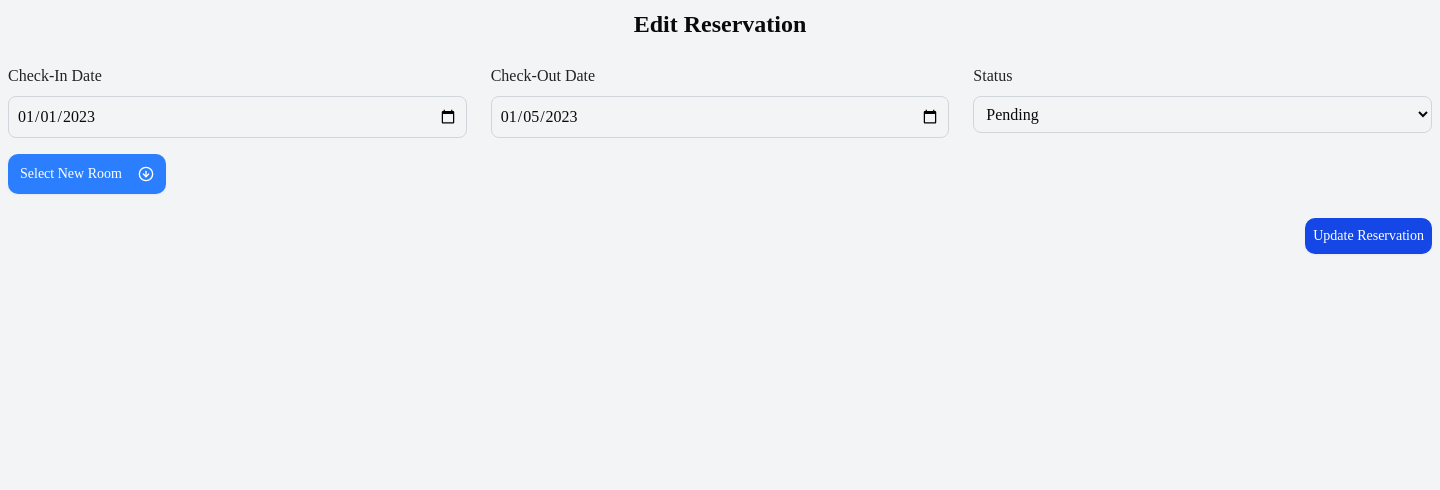
EditBooking › shows error when room fetch fails
The image size is (1440, 490).
What coordinates should you click on to do the following:
click the button "Select New Room"
I would click on:
 (87, 174)
Its box is [8,154,166,194].
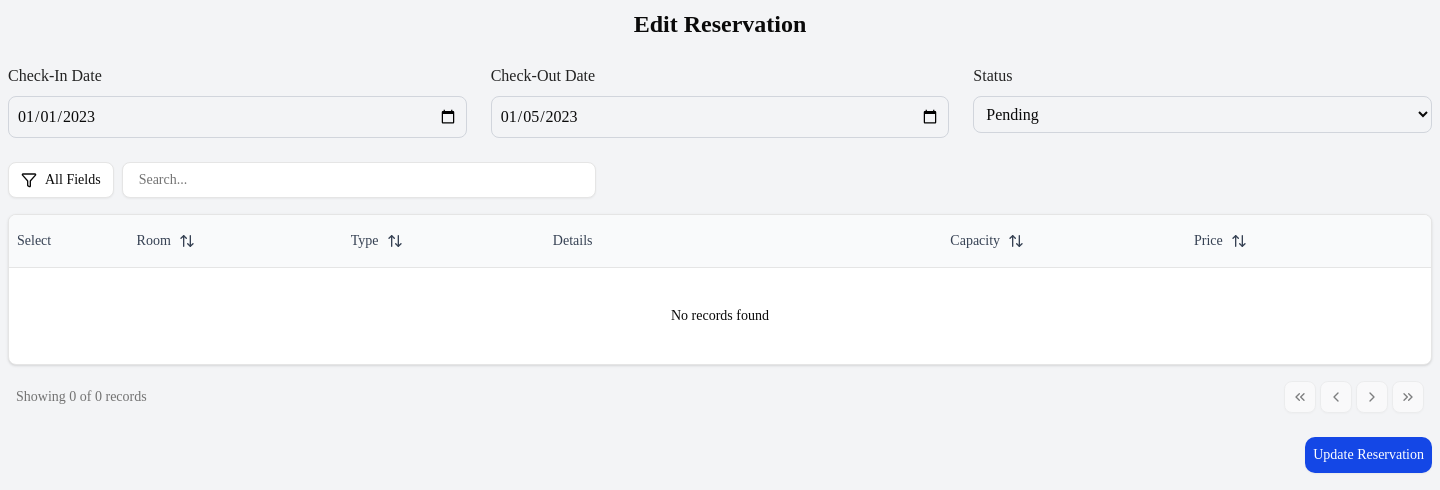
Result: the text "No records found" is shown at [9,268,1431,364]
